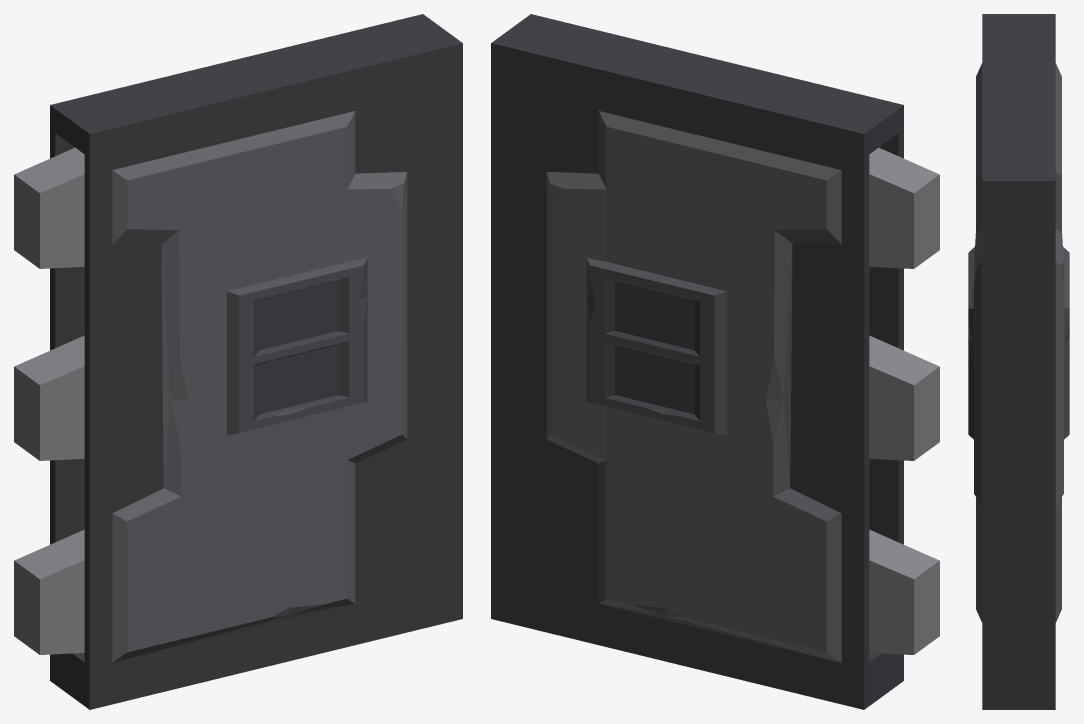
The model's file is SM_Bld_Wall_Doorframe_Door_R_05.fbx.
The picture shows the model from 3 angles, left to right: view 1: azimuth 30°, elevation 25°; view 2: azimuth 150°, elevation 25°; view 3: azimuth 270°, elevation 25°; orthographic projection. The views are drawn at different scales.
Parts seen in each view (by area): view 1: SM_Bld_Wall_Doorframe_Door_R_05_LOD0; view 2: SM_Bld_Wall_Doorframe_Door_R_05_LOD0; view 3: SM_Bld_Wall_Doorframe_Door_R_05_LOD0.
Boxes of the visible parts, x1,y1,x2,y2 form: SM_Bld_Wall_Doorframe_Door_R_05_LOD0: (14,14,462,709); SM_Bld_Wall_Doorframe_Door_R_05_LOD0: (491,14,939,709); SM_Bld_Wall_Doorframe_Door_R_05_LOD0: (968,14,1069,709).
Size of the model in its own units: 42.29 by 184 by 244.
Materials: 1 (1 with a texture image).
